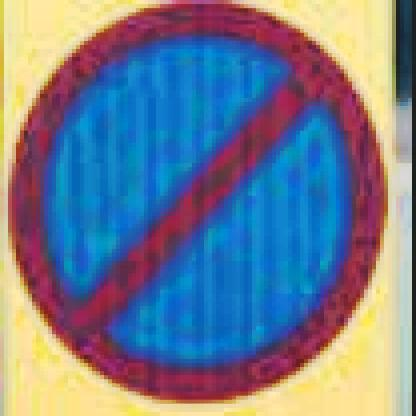No parking: (7, 2, 394, 402)
